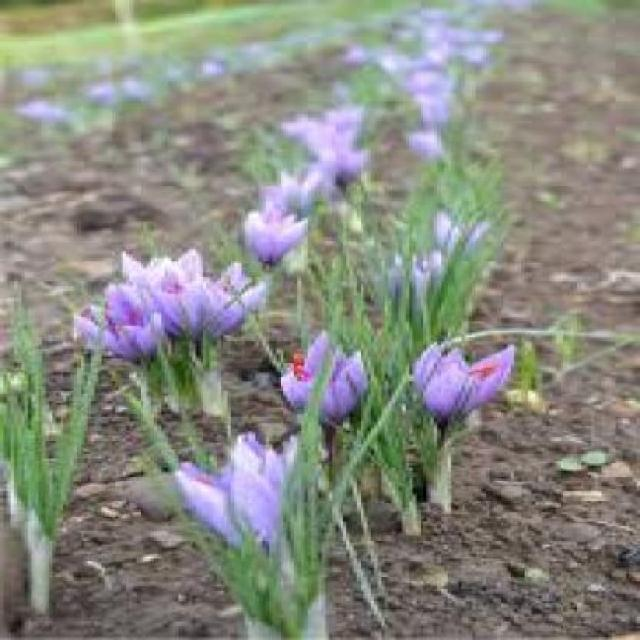saffron open: (175, 432, 284, 545), (414, 345, 514, 428), (245, 210, 308, 264)
